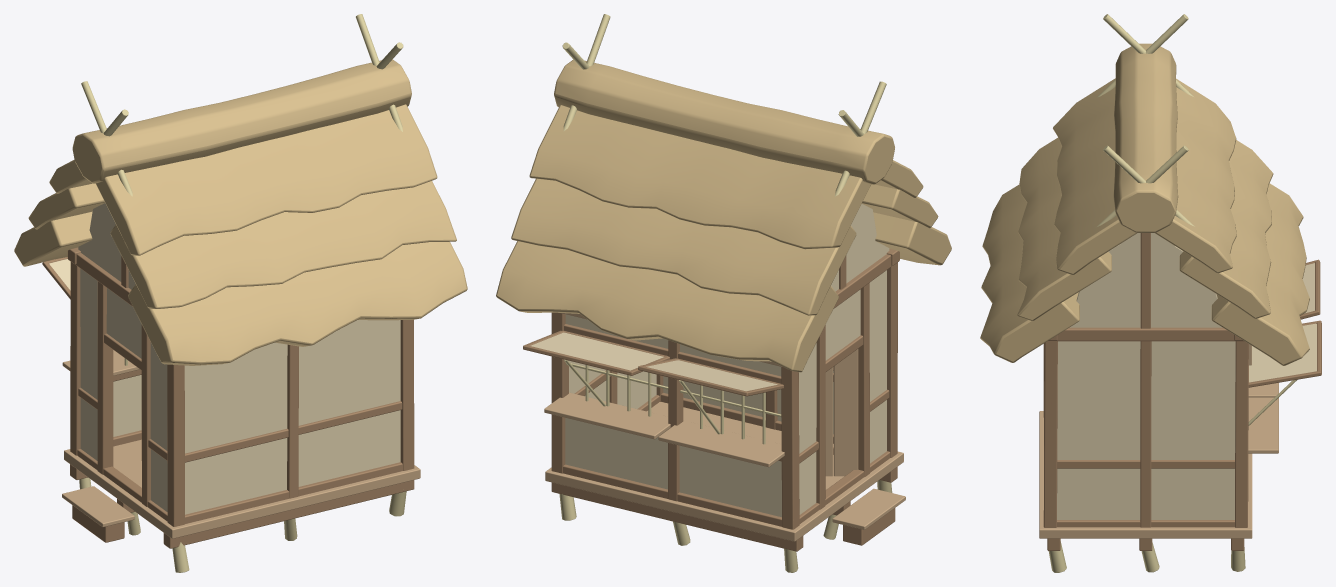
File: house_stall_1000.glb
The picture shows the model from 3 angles, left to right: view 1: azimuth 30°, elevation 25°; view 2: azimuth 150°, elevation 25°; view 3: azimuth 270°, elevation 25°; orthographic projection. The views are drawn at different scales.
Parts seen in each view (by area): view 1: stall_1000_thatch, stall_1000_sawali, stall_1000_timber, stall_1000_plank, stall_1000_bamboo; view 2: stall_1000_thatch, stall_1000_sawali, stall_1000_timber, stall_1000_plank, stall_1000_bamboo; view 3: stall_1000_thatch, stall_1000_sawali, stall_1000_timber, stall_1000_plank, stall_1000_bamboo.
Boxes of the visible parts, bbox=[...] form: stall_1000_thatch: bbox=[14, 59, 467, 365]; stall_1000_sawali: bbox=[49, 203, 400, 514]; stall_1000_timber: bbox=[42, 247, 414, 548]; stall_1000_plank: bbox=[62, 350, 420, 538]; stall_1000_bamboo: bbox=[79, 14, 406, 572]; stall_1000_thatch: bbox=[496, 59, 951, 372]; stall_1000_sawali: bbox=[530, 204, 889, 517]; stall_1000_timber: bbox=[523, 249, 899, 551]; stall_1000_plank: bbox=[544, 313, 905, 541]; stall_1000_bamboo: bbox=[559, 14, 892, 572]; stall_1000_thatch: bbox=[980, 43, 1309, 365]; stall_1000_sawali: bbox=[1057, 233, 1316, 519]; stall_1000_timber: bbox=[1043, 233, 1321, 550]; stall_1000_plank: bbox=[1039, 344, 1278, 538]; stall_1000_bamboo: bbox=[1048, 14, 1297, 572].
Size of the model in its own units: 4.85 by 6.59 by 4.65.
